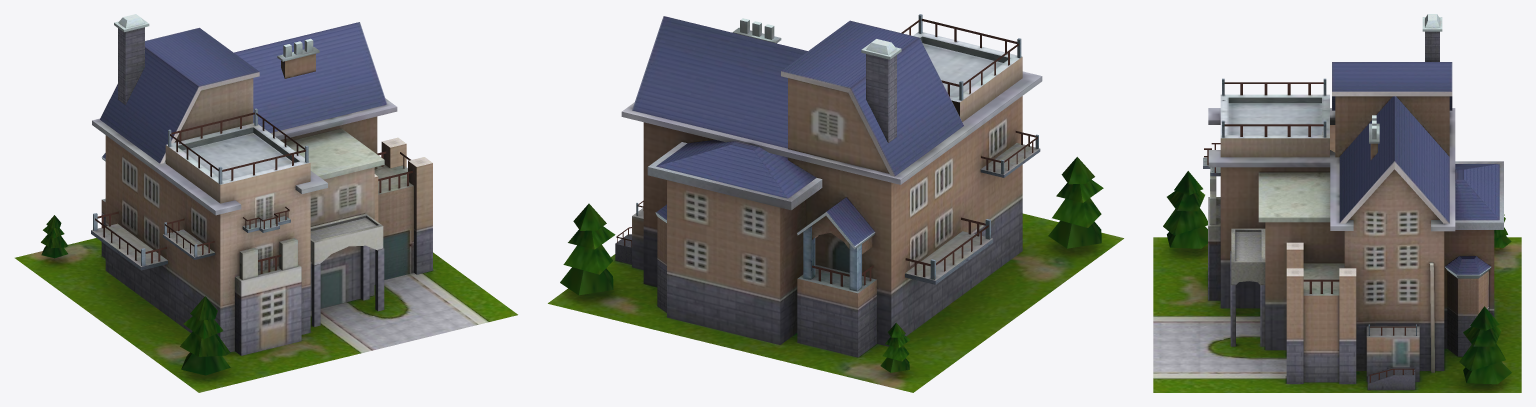
The model's file is house_01.obj.
3 views of the same model, side by side, from view 1: azimuth 30°, elevation 25°; view 2: azimuth 150°, elevation 25°; view 3: azimuth 270°, elevation 25° (orthographic). The views are drawn at different scales.
Visible parts, largest first — view 1: diy_bs_3_3_a; view 2: diy_bs_3_3_a; view 3: diy_bs_3_3_a.
Part boxes in pixels (<box>): diy_bs_3_3_a: <box>15,14,517,392</box>; diy_bs_3_3_a: <box>548,14,1123,392</box>; diy_bs_3_3_a: <box>1153,14,1521,392</box>.
Size of the model in its own units: 5.1 by 3.88 by 5.08.
